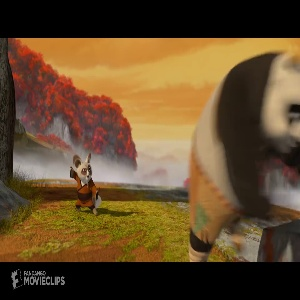po: (186, 50, 300, 263)
shifu: (64, 150, 105, 214)
